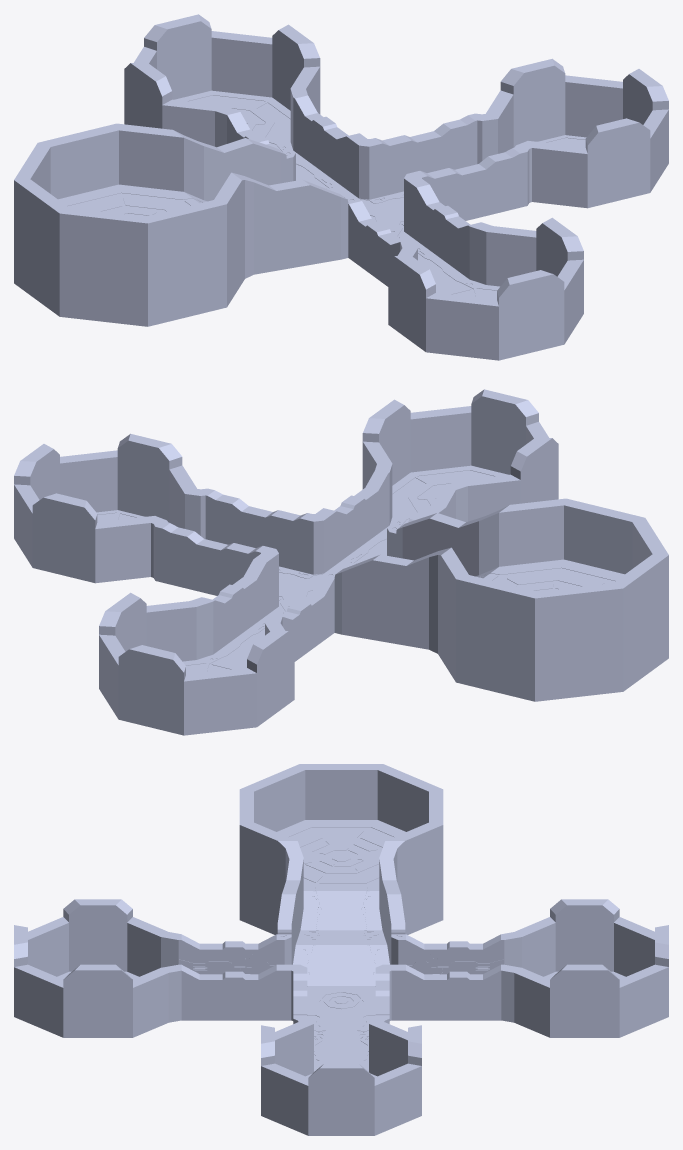
File: Base 1 (Basic).FBX
3 renders of one model, top to bottom at view 1: azimuth 30°, elevation 25°; view 2: azimuth 150°, elevation 25°; view 3: azimuth 270°, elevation 25°, orthographic. The views are drawn at different scales.
Parts seen in each view (by area): view 1: Cut-Extrude29; view 2: Cut-Extrude29; view 3: Cut-Extrude29.
Part boxes in pixels (left/top/right/bottom): Cut-Extrude29: left=14, top=14, right=668, bottom=360; Cut-Extrude29: left=14, top=389, right=668, bottom=735; Cut-Extrude29: left=14, top=764, right=668, bottom=1135.
Size of the model in its own units: 3672 by 591 by 3677.
